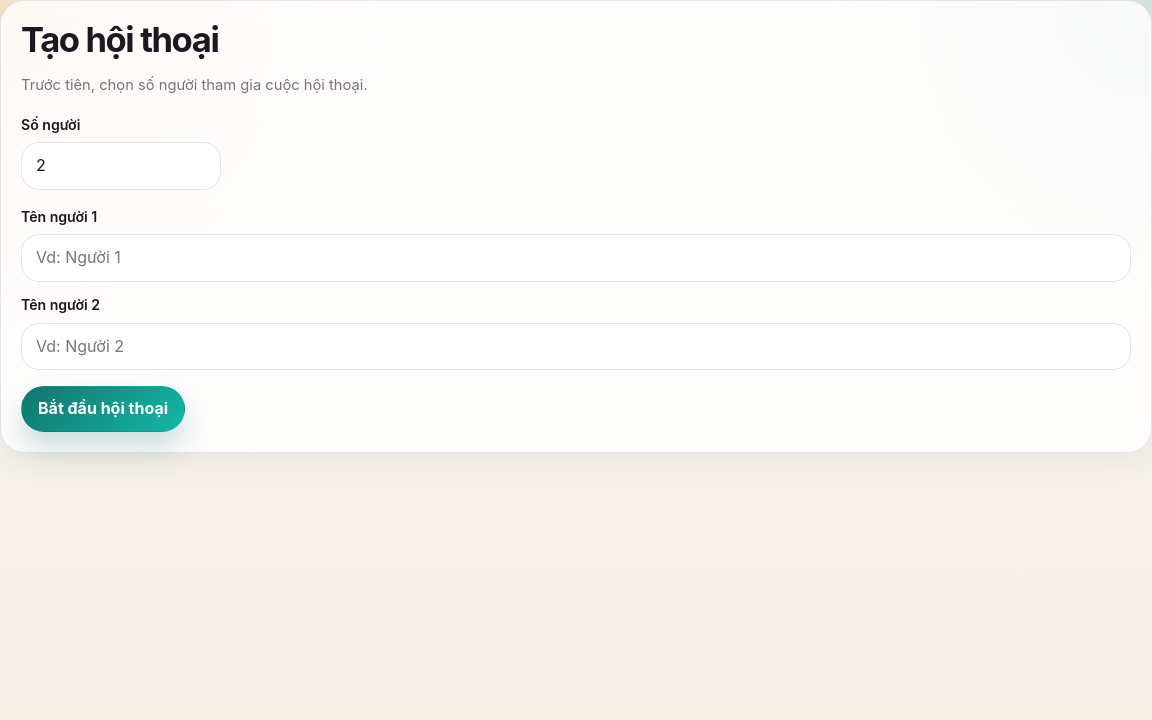
Test: KaiwaSection — nhập nội dung hội thoại › bắt đầu với đúng một câu thoại trống
The width and height of the screenshot is (1152, 720).
Click the button "Bắt đầu hội thoại".
click(103, 409)  # box [21, 386, 185, 432]
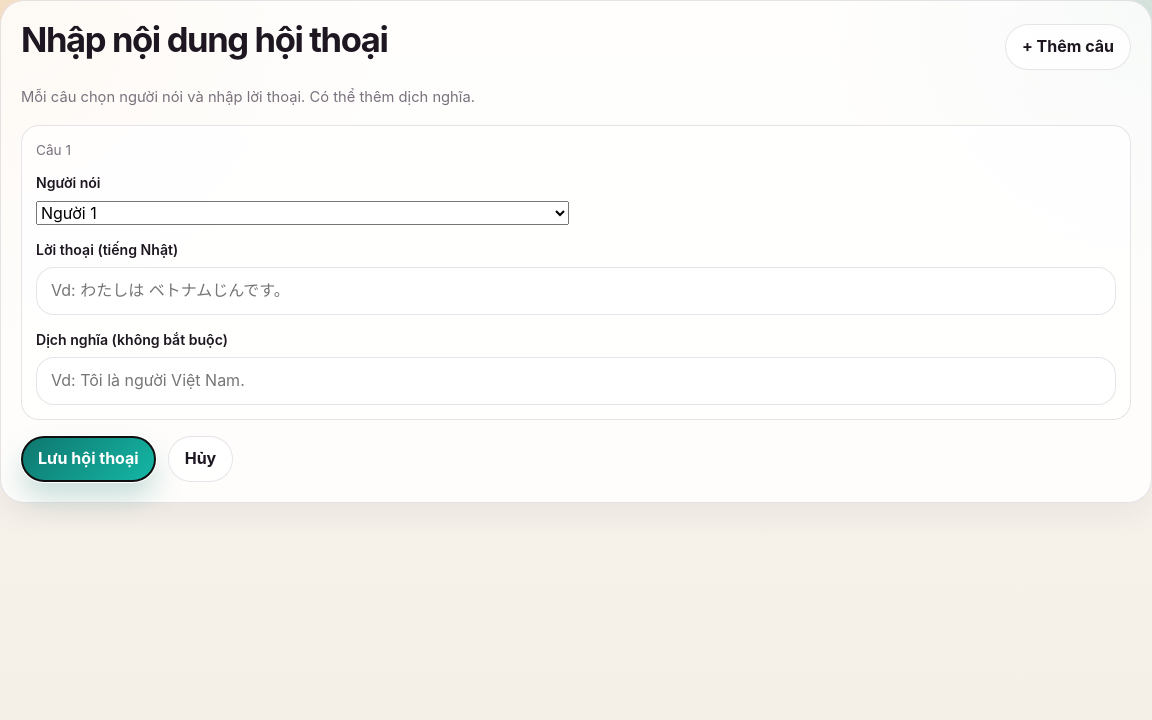
Expected: the number of fields with placeholder "Vd: わたしは ベトナムじんです。" is 1, [36, 267, 1116, 315]
Expected: the heading "Nhập nội dung hội thoại" is shown, [21, 21, 388, 58]
